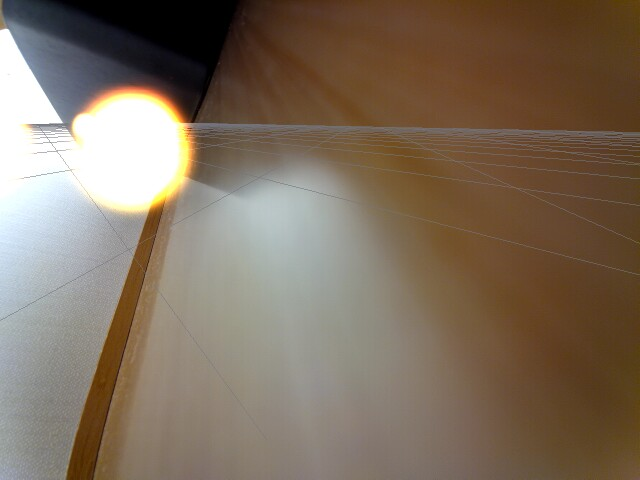firebig: (86, 73, 212, 226)
